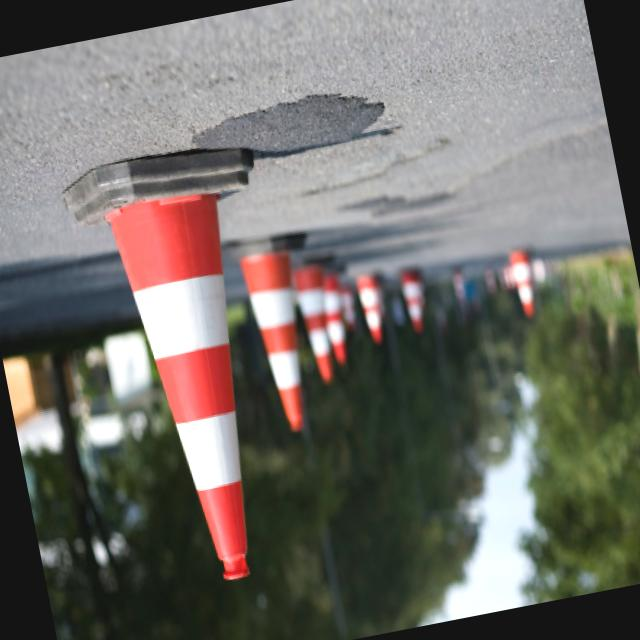cone: (42, 125, 328, 626)
